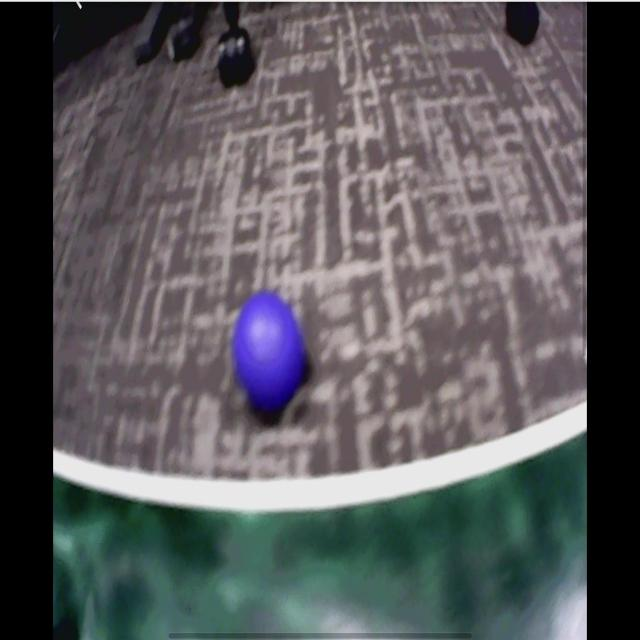ball: (235, 294, 302, 404)
